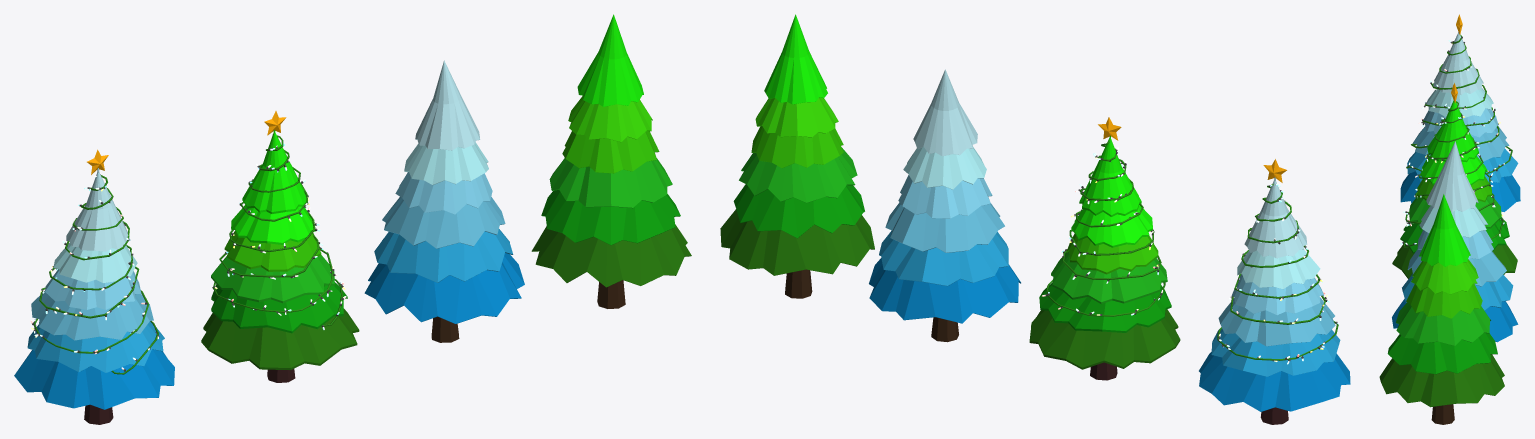
Rendered from trees.glb.
The picture shows the model from 3 angles, left to right: view 1: azimuth 30°, elevation 25°; view 2: azimuth 150°, elevation 25°; view 3: azimuth 270°, elevation 25°; orthographic projection. The views are drawn at different scales.
Visible parts, largest first — view 1: Tree 4, Tree 3, Tree 2, Tree 1; view 2: Tree 4, Tree 3, Tree 2, Tree 1; view 3: Tree 4, Tree 1, Tree 3, Tree 2.
Part boxes in pixels (left/top/right/bottom): Tree 4: left=531, top=14, right=691, bottom=308; Tree 3: left=364, top=60, right=524, bottom=342; Tree 2: left=201, top=111, right=359, bottom=382; Tree 1: left=14, top=149, right=174, bottom=424; Tree 4: left=720, top=14, right=874, bottom=298; Tree 3: left=869, top=69, right=1020, bottom=342; Tree 2: left=1029, top=117, right=1180, bottom=380; Tree 1: left=1199, top=159, right=1350, bottom=424; Tree 4: left=1379, top=194, right=1504, bottom=424; Tree 1: left=1400, top=14, right=1520, bottom=211; Tree 3: left=1392, top=141, right=1518, bottom=342; Tree 2: left=1392, top=83, right=1517, bottom=278.
Size of the model in its own units: 7.2 by 3.09 by 1.73.
